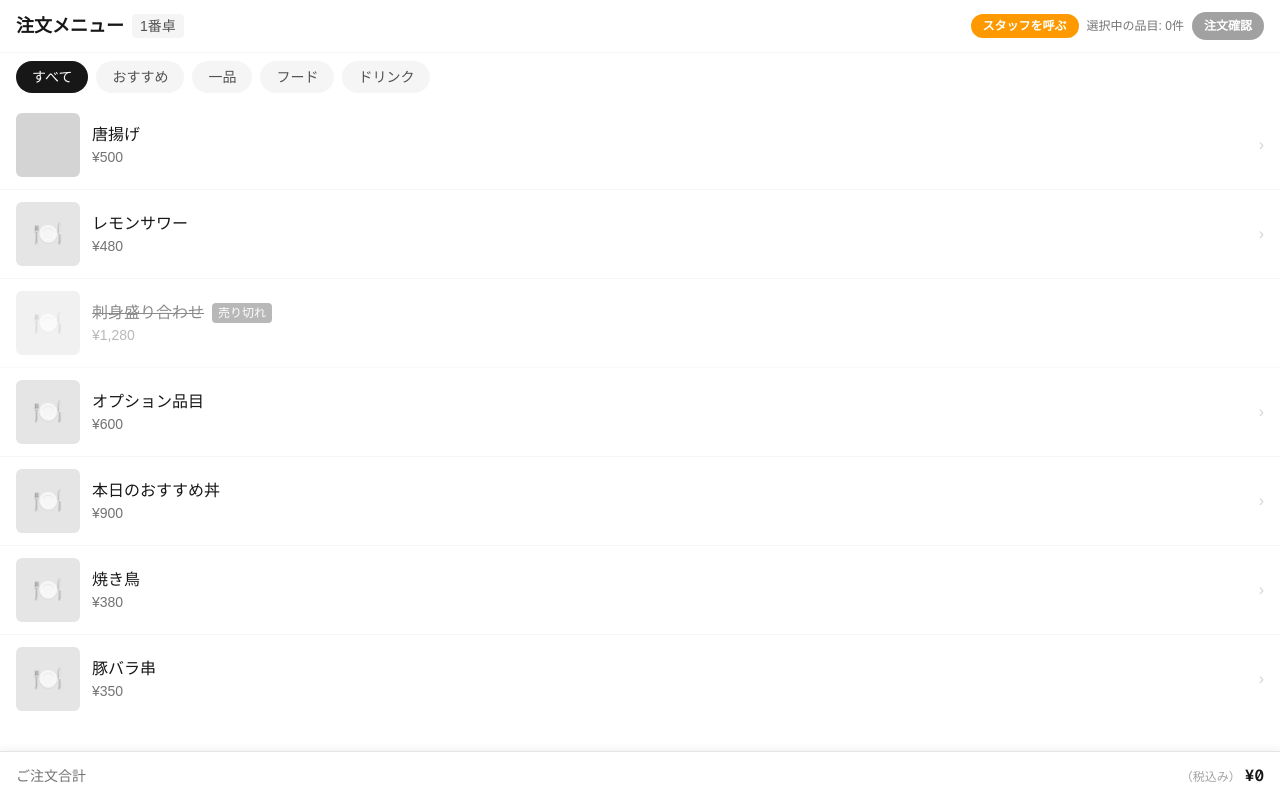
Test: MenuScreen › キャンセルするとダイアログが閉じ、選択内容は破棄される
Click the button "🍽️ オプション品目 ¥600 ›" at (48, 412), box [0,368,1279,457]
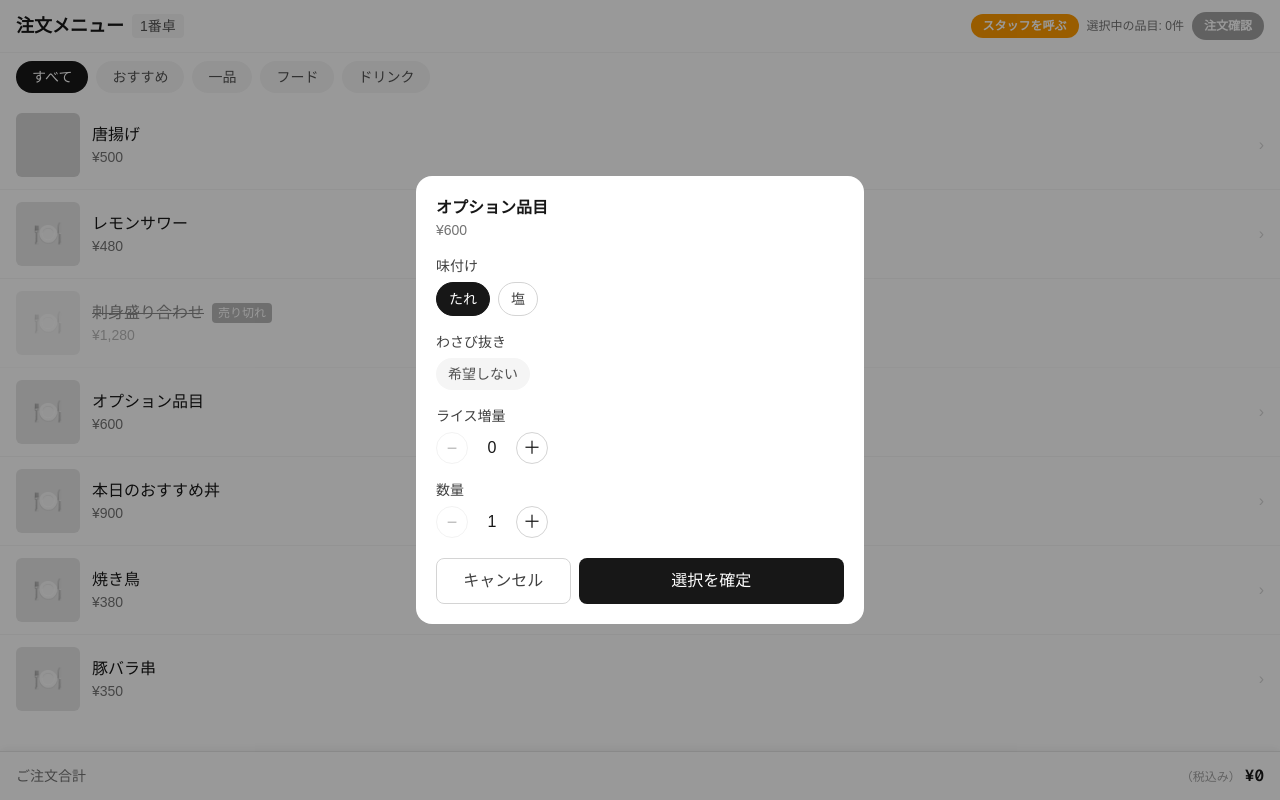
Expected: the dialog is shown, [416,176,864,624]
Click the button "キャンセル" at (503, 581), box [436,558,571,604]
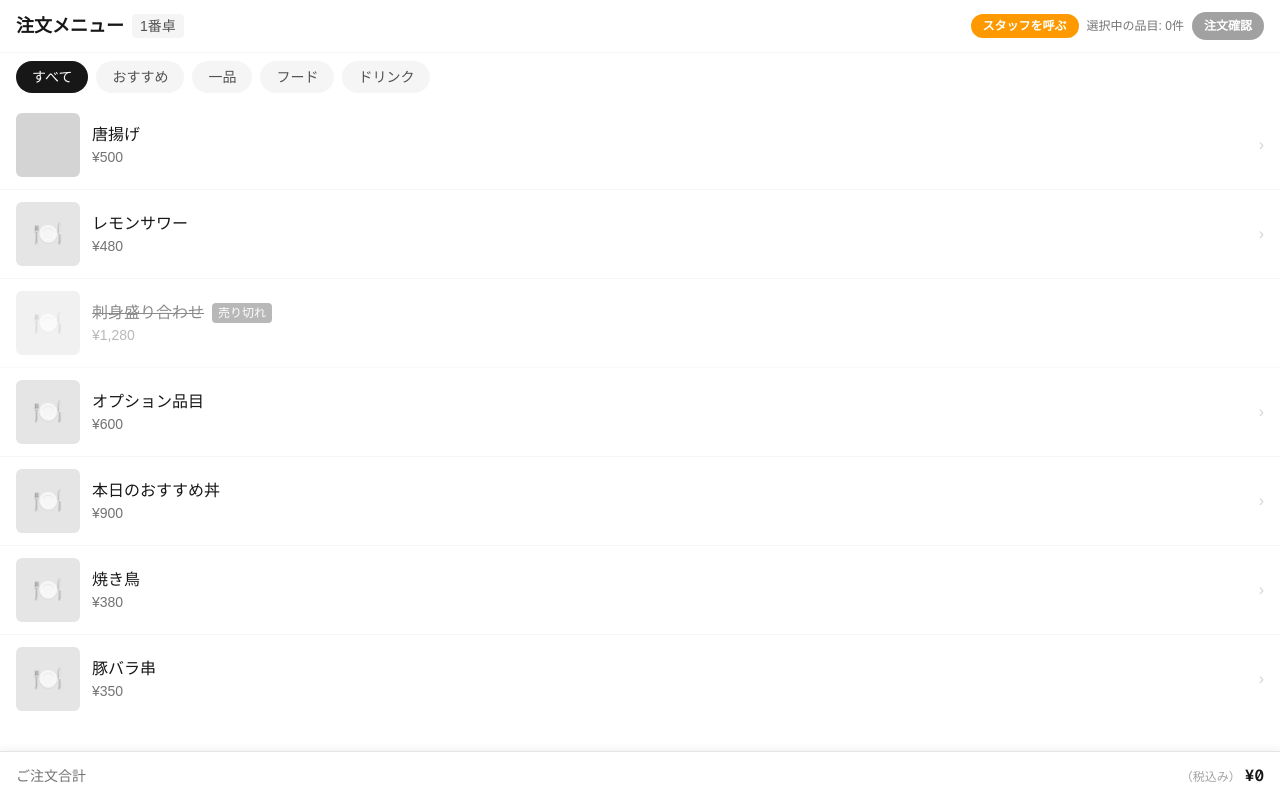
Expected: the dialog is gone
